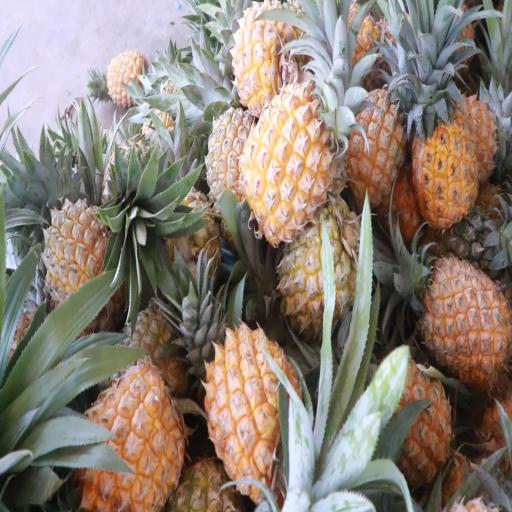------------------------------: (279, 207, 362, 337)
Pineapple - v8 v1: (77, 364, 185, 508), (204, 329, 298, 489), (250, 91, 336, 240), (420, 261, 509, 376), (371, 361, 452, 487), (345, 86, 410, 208), (413, 110, 479, 225), (237, 0, 302, 105)
